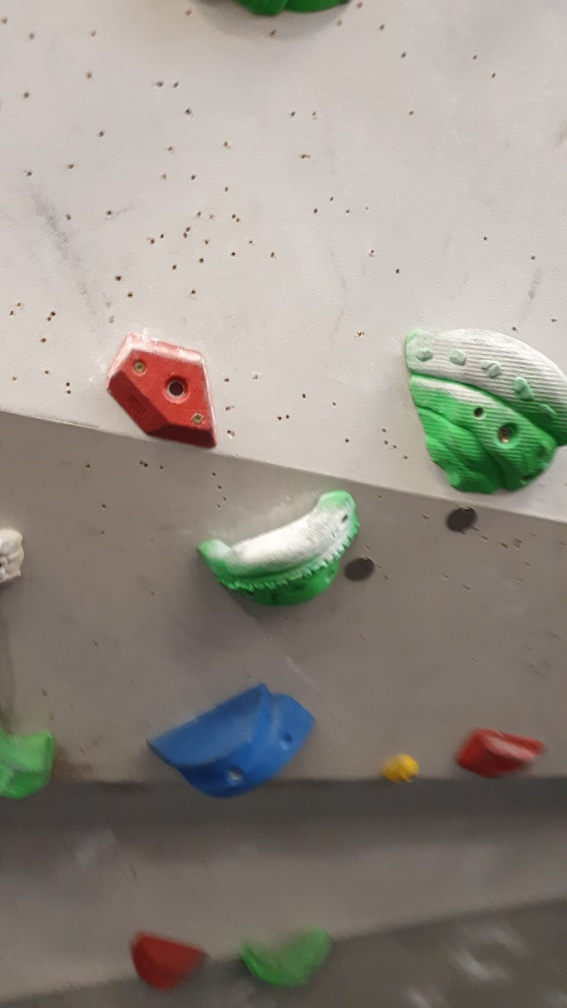Crimp: (96, 324, 227, 454), (453, 720, 547, 781)
Hand Start: (444, 500, 479, 540), (342, 552, 383, 584)
Jug: (399, 321, 567, 500), (194, 484, 363, 616)
Pinch: (141, 685, 315, 803)
